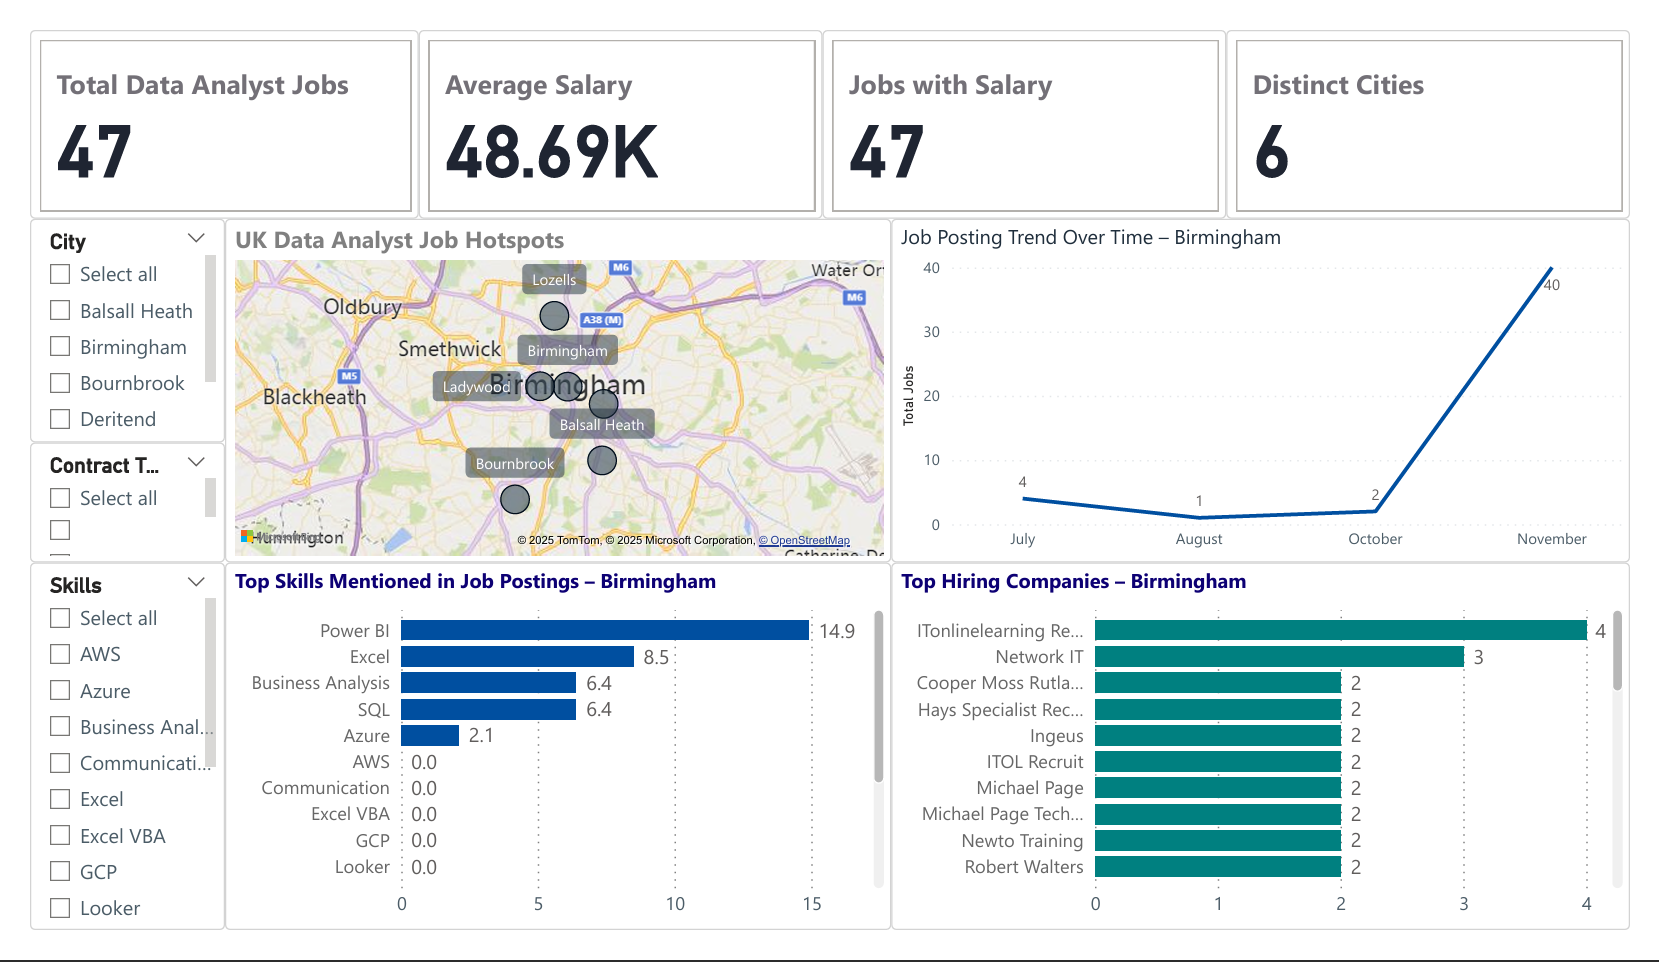

The dashboard page shown, as its layout file describes it:
{"tool":"powerbi","page":{"name":"Page 1","canvas":[1280,720],"ordinal":0},"visuals":[{"type":"cardVisual","title":"Total Data Analyst Jobs","fields":{"Data":["Jobs.Total Jobs"]},"box":[0,0,311.4,151.4],"z":0},{"type":"cardVisual","title":"Total Data Analyst Jobs","fields":{"Data":["Jobs.Jobs with Salary"]},"box":[634.3,0,322.9,151.4],"z":1000},{"type":"cardVisual","title":"Total Data Analyst Jobs","fields":{"Data":["Jobs.Average Salary"]},"box":[311.4,0,322.9,151.4],"z":2000},{"type":"cardVisual","title":"Total Data Analyst Jobs","fields":{"Data":["Jobs.Distinct Cities"]},"box":[957.1,0,322.9,151.4],"z":3000},{"type":"map","title":"UK Data Analyst Job Hotspots","fields":{"Category":["Jobs.city"]},"box":[155.7,151.4,532.9,274.3],"z":4000},{"type":"lineChart","title":"Job Posting Trend Over Time – Birmingham  ","fields":{"Y":["Jobs.Total Jobs"],"Category":["Jobs.created.Variation.Date Hierarchy.Month"]},"box":[688.6,151.4,591.4,274.3],"z":5000},{"type":"clusteredBarChart","title":"Top Skills Mentioned in Job Postings – Birmingham","fields":{"Category":["SkillCounts.skill"],"Y":["Sum(SkillCounts.percent_of_jobs)"]},"box":[155.7,425.7,532.9,294.3],"z":6000},{"type":"clusteredBarChart","title":"Top Hiring Companies – Birmingham","fields":{"Category":["Jobs.company"],"Y":["Jobs.Total Jobs"]},"box":[688.6,425.7,591.4,294.3],"z":7000},{"type":"slicer","fields":{"Values":["Jobs.city"]},"box":[0,151.4,155.7,178.6],"z":8000},{"type":"slicer","fields":{"Values":["Jobs.contract_time"]},"box":[0,330,155.7,95.7],"z":9000},{"type":"slicer","fields":{"Values":["SkillCounts.skill"]},"box":[0,425.7,155.7,294.3],"z":10000}]}

Visuals, with their boxes in screenshot pixels (x1, y1, x2, y2), scaled from the page's 1280x720 canvas onto the 1659x962 screenshot:
"Total Data Analyst Jobs" cardVisual: [0,0,404,202]
"Total Data Analyst Jobs" cardVisual: [822,0,1241,202]
"Total Data Analyst Jobs" cardVisual: [404,0,822,202]
"Total Data Analyst Jobs" cardVisual: [1240,0,1658,202]
"UK Data Analyst Job Hotspots" map: [202,202,892,569]
"Job Posting Trend Over Time – Birmingham  " lineChart: [892,202,1658,569]
"Top Skills Mentioned in Job Postings – Birmingham" clusteredBarChart: [202,569,892,961]
"Top Hiring Companies – Birmingham" clusteredBarChart: [892,569,1658,961]
slicer - Jobs.city: [0,202,202,441]
slicer - Jobs.contract_time: [0,441,202,569]
slicer - SkillCounts.skill: [0,569,202,961]
